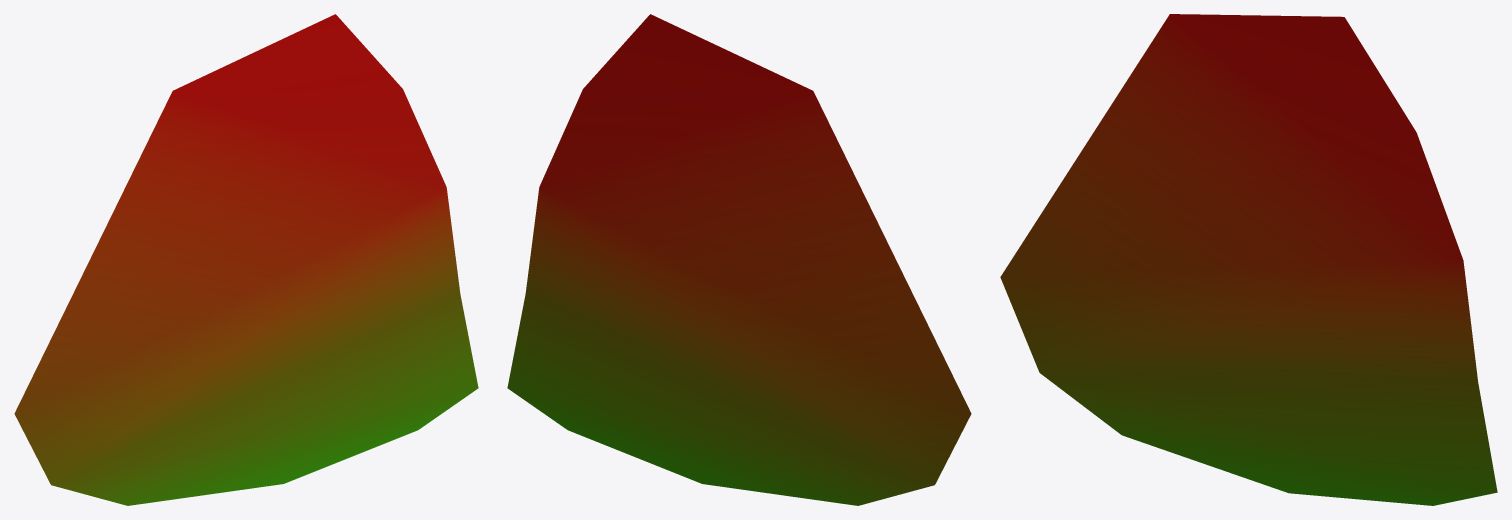
Rendered from Var3_LOD7.fbx.
The picture shows the model from 3 angles, left to right: view 1: azimuth 30°, elevation 25°; view 2: azimuth 150°, elevation 25°; view 3: azimuth 330°, elevation 25°; orthographic projection. The views are drawn at different scales.
Parts seen in each view (by area): view 1: _7ip4_Var3_LOD7; view 2: _7ip4_Var3_LOD7; view 3: _7ip4_Var3_LOD7.
Part boxes in pixels (x1,y1,x2,y2): _7ip4_Var3_LOD7: (14, 14, 478, 505); _7ip4_Var3_LOD7: (507, 14, 971, 505); _7ip4_Var3_LOD7: (1000, 14, 1497, 505).
Bounding box in the file's own units: 34.79 × 32.75 × 9.1e-07.
